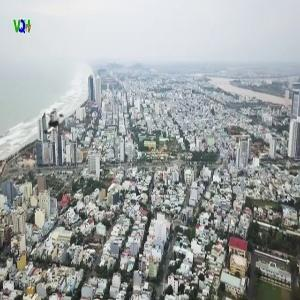drone: (23, 93, 85, 155)
